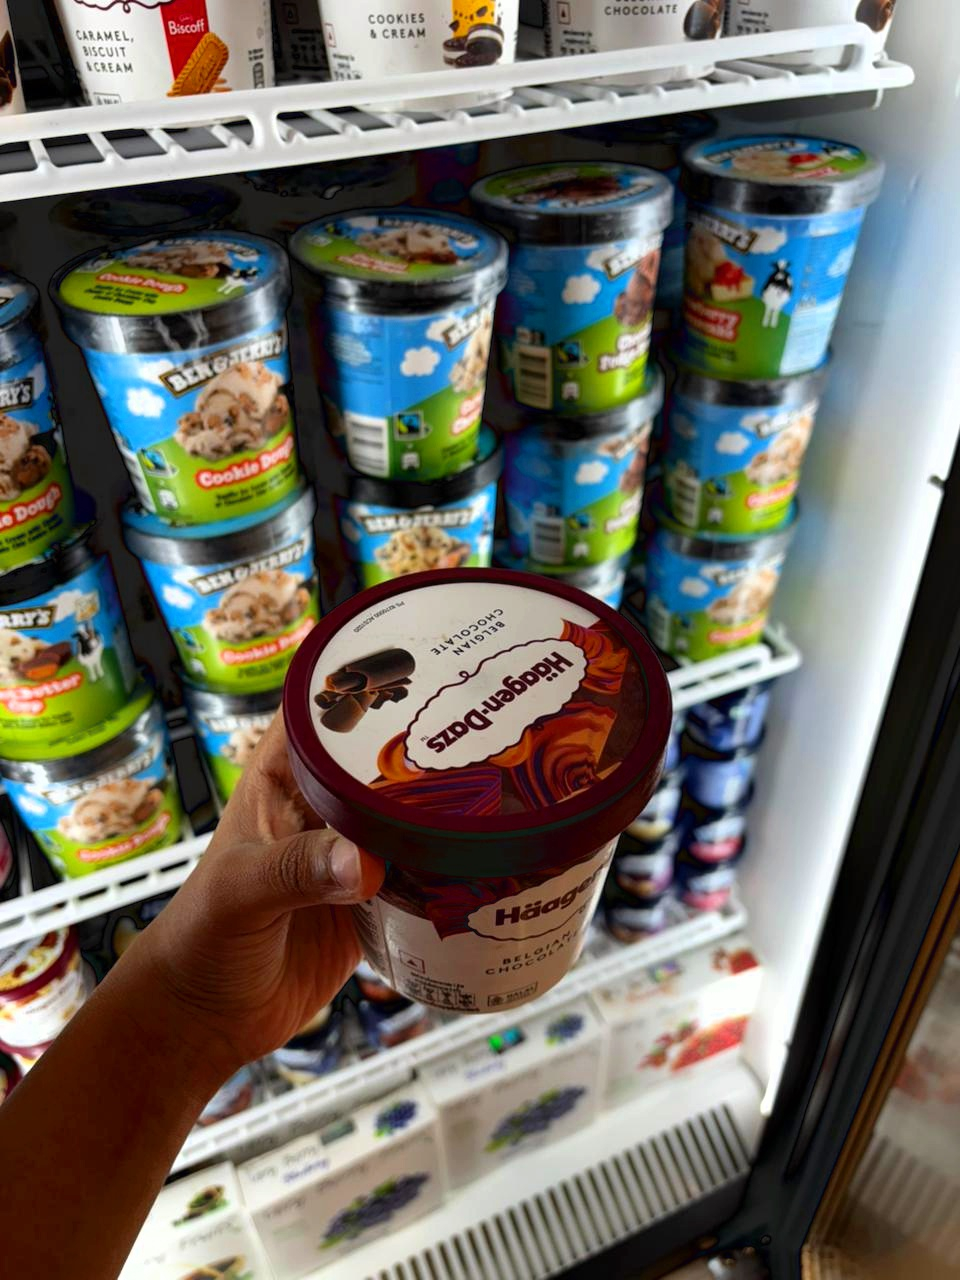Haagen-Dazs IceCream Tub: (280, 558, 678, 1047)
